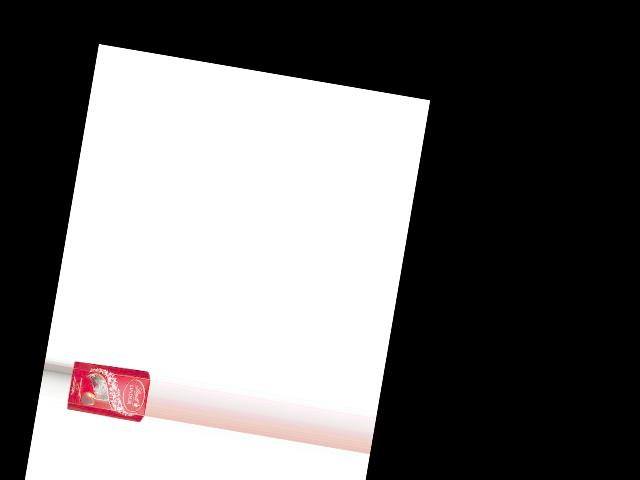chocolate: (64, 357, 151, 426)
